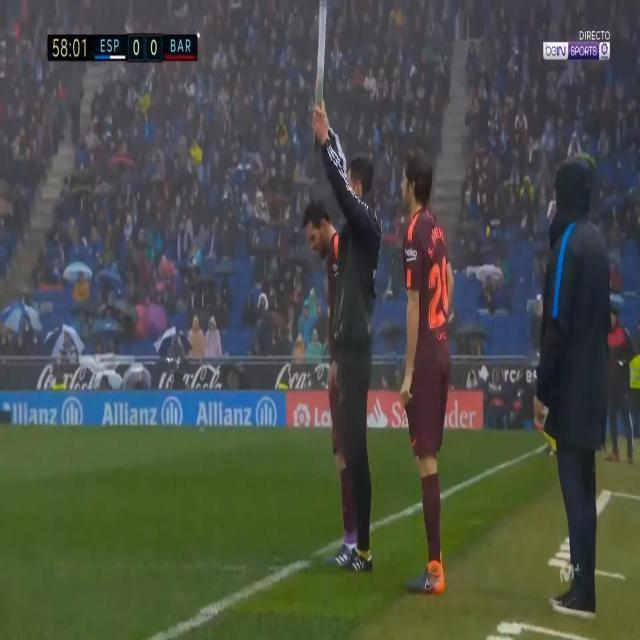player: (391, 127, 470, 612)
